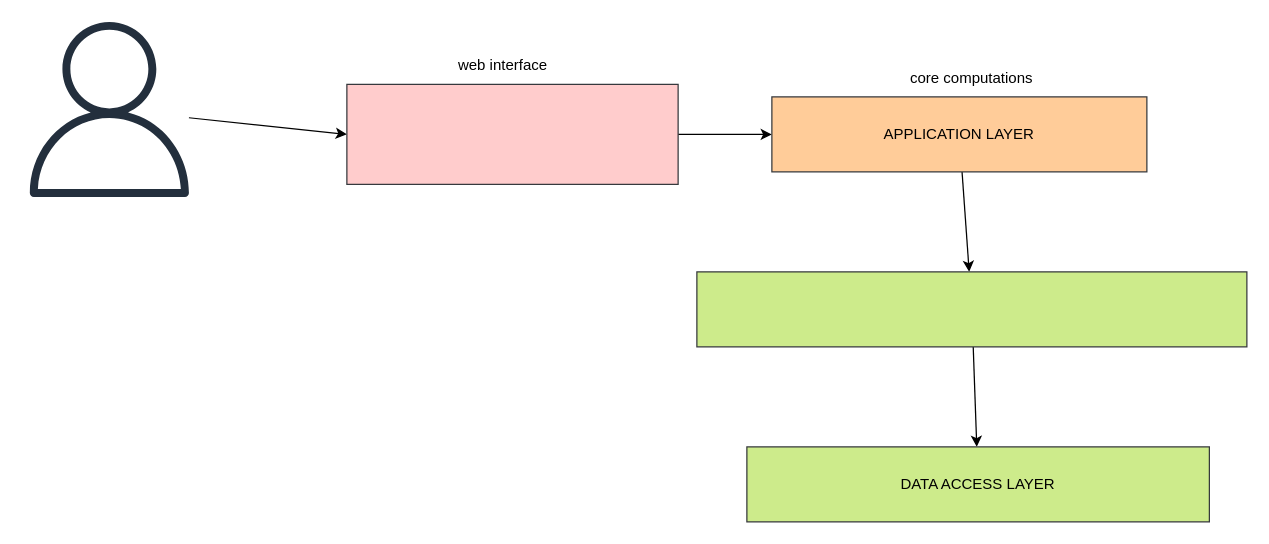
The diagram is 1269 pixels wide and 544 high, and some of its shapes have lost their labels. Each missing label, with the centre of its shape:
"DOMAIN LAYER" goes at (x=971, y=309).
"PRESENTATION LAYER" goes at (x=512, y=133).
